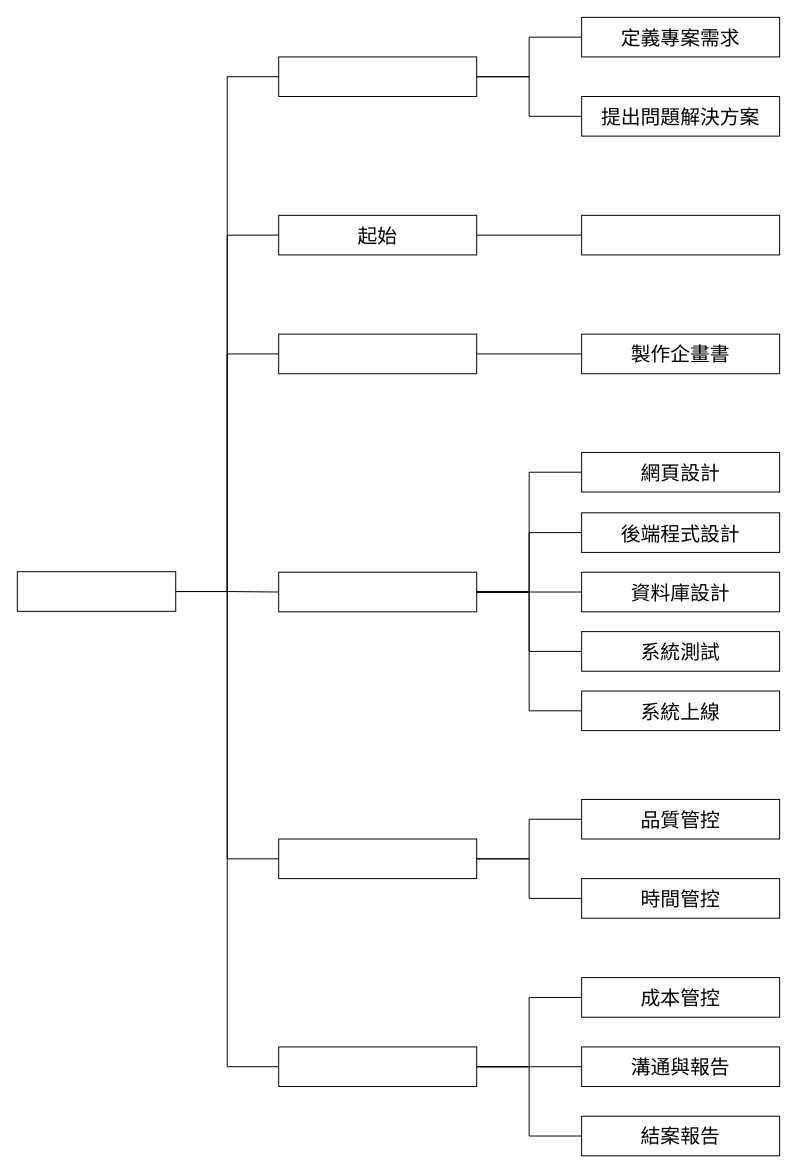
Image size: 797x1173. Some labels were removed from this diagram. Each missing label, with the centre of its shape:
"執行" goes at [377,591].
"提案" goes at [377,76].
"管控" goes at [377,858].
"系統" goes at [96,591].
"結案" goes at [377,1066].
"製作系統需求規格書" goes at [680,234].
"計畫" goes at [377,353].
